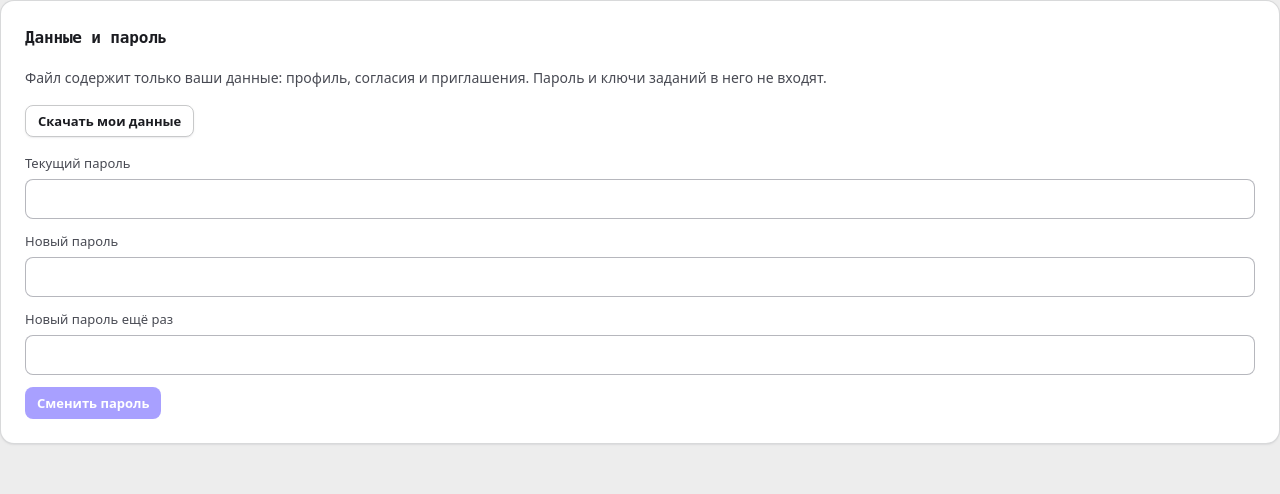
it: пароль аккаунта › обычный отказ остаётся ошибкой
Type "old-pass" into the password field labelled "Текущий пароль" at (640, 199), box top-left (25, 179), bottom-right (1255, 219)
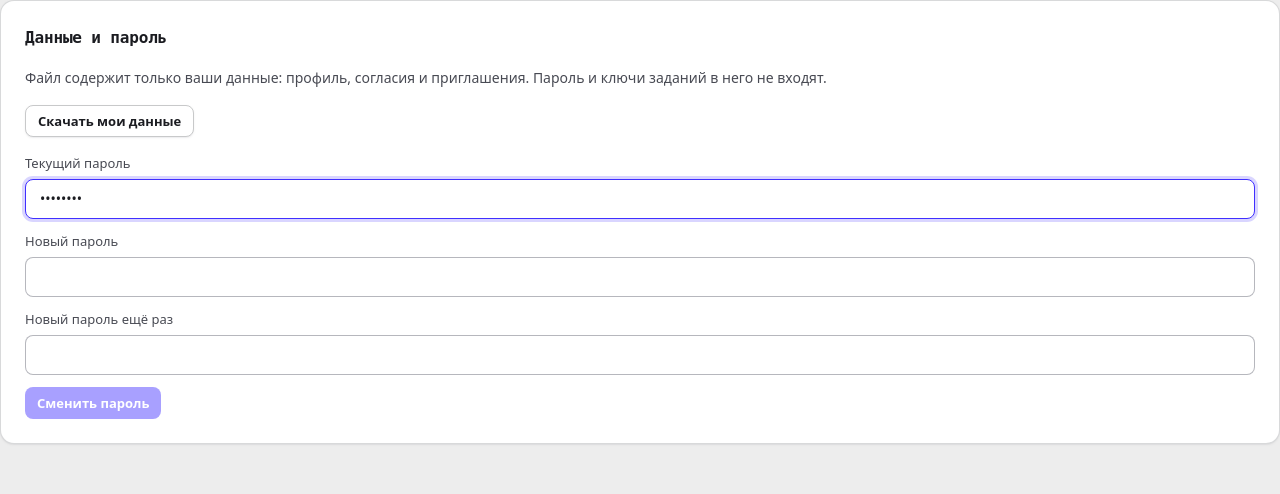
Type "new-pass-1" into the password field labelled "Новый пароль" at (640, 277), box top-left (25, 257), bottom-right (1255, 297)
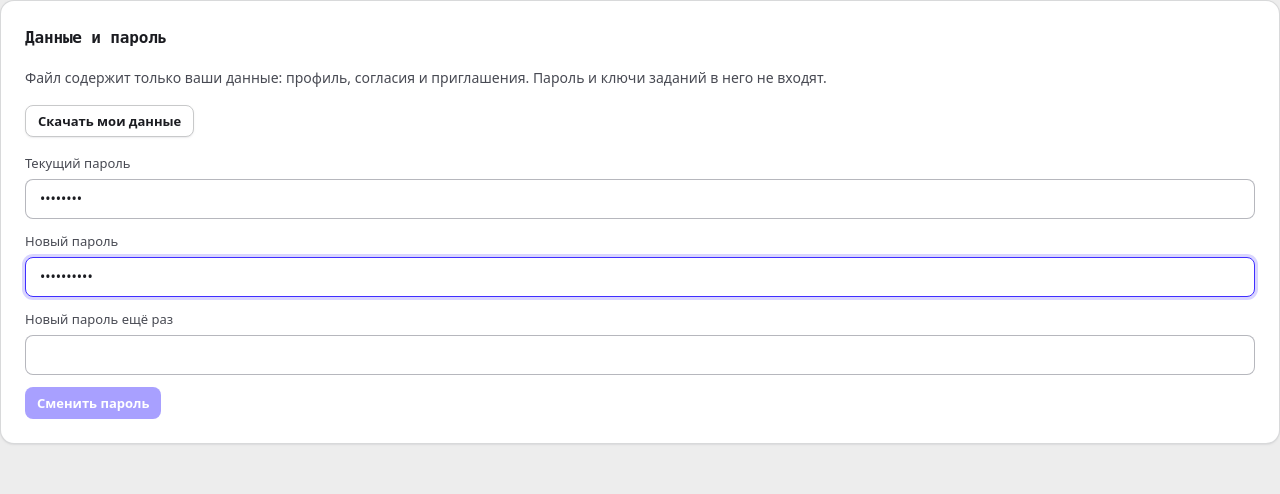
Type "new-pass-1" into the password field labelled "Новый пароль ещё раз" at (640, 355), box top-left (25, 335), bottom-right (1255, 375)
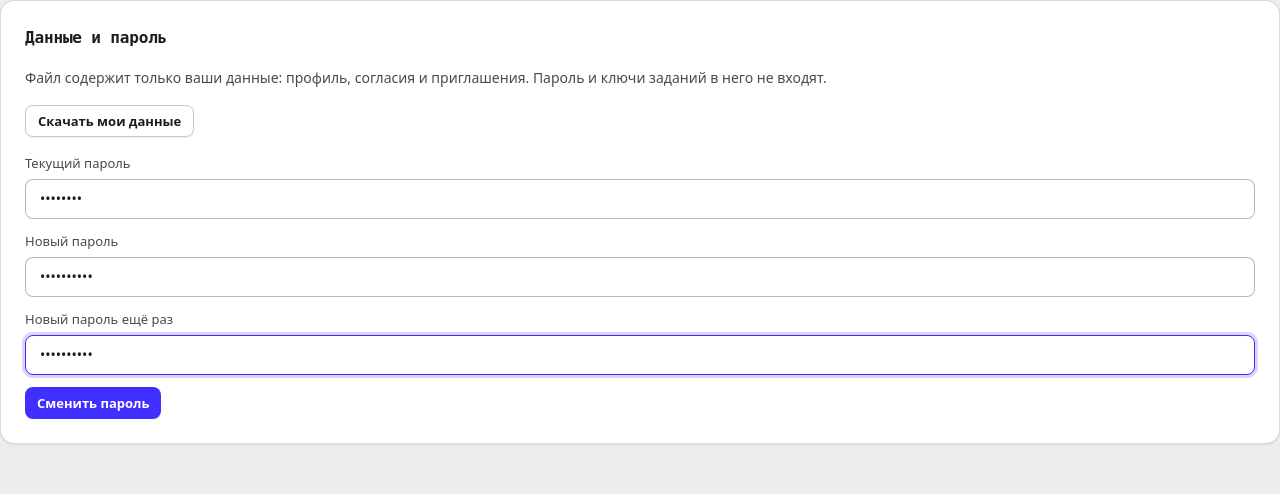
Click the button "Сменить пароль" at (93, 403), box top-left (25, 387), bottom-right (161, 419)
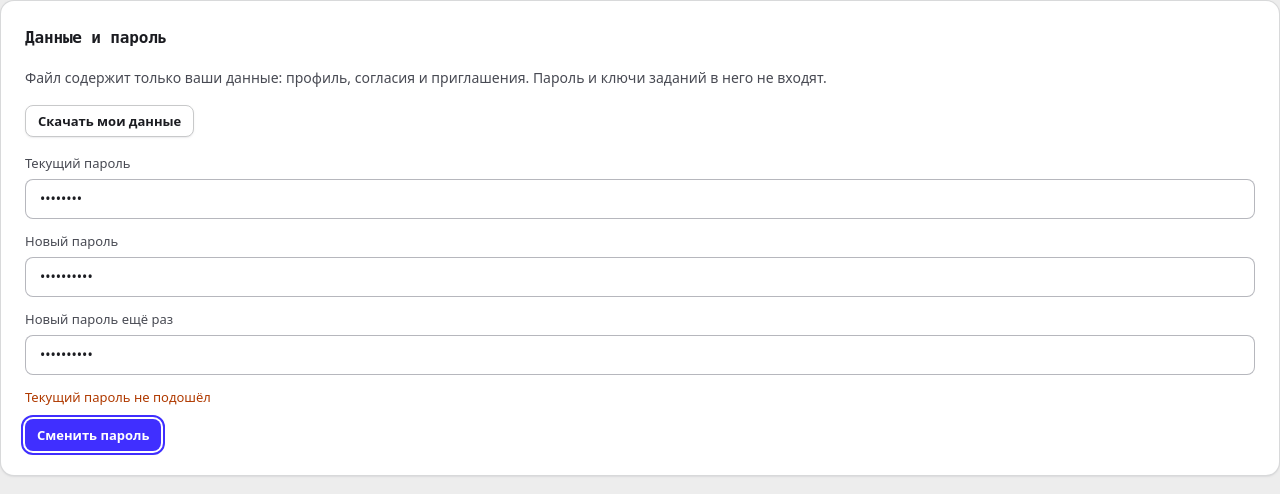
expect the message reads "Текущий пароль не подошёл": met, box top-left (25, 388), bottom-right (211, 406)
